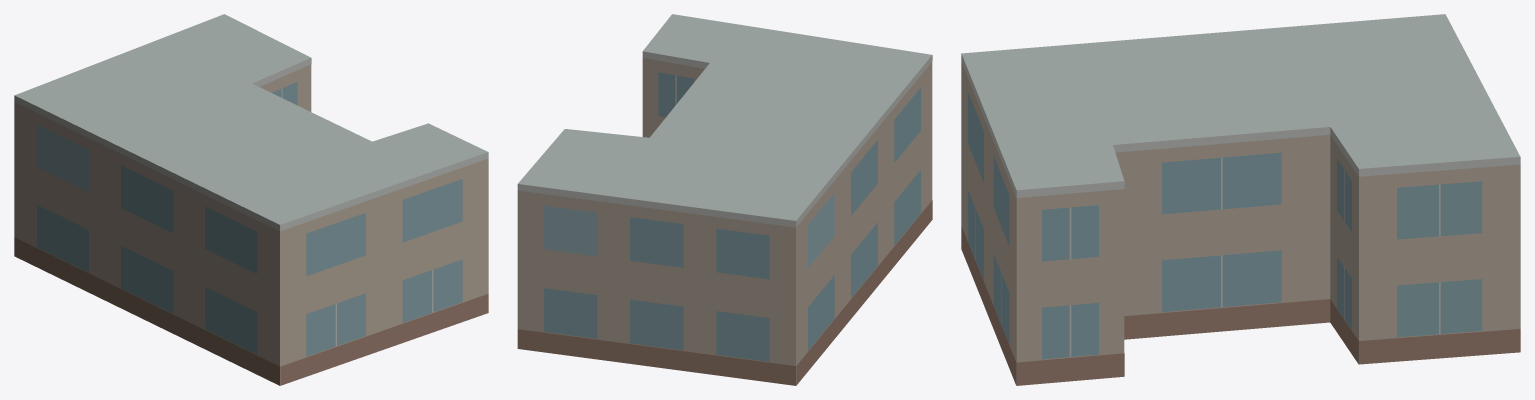
Rendered from survey-upis-32764304.glb.
3 renders of one model, left to right at view 1: azimuth 30°, elevation 25°; view 2: azimuth 150°, elevation 25°; view 3: azimuth 270°, elevation 25°, orthographic. The views are drawn at different scales.
Parts seen in each view (by area): view 1: survey-upis-32764304.tmp; view 2: survey-upis-32764304.tmp; view 3: survey-upis-32764304.tmp.
Boxes of the visible parts, <box> form: survey-upis-32764304.tmp: <box>14,14,488,385</box>; survey-upis-32764304.tmp: <box>517,14,932,385</box>; survey-upis-32764304.tmp: <box>961,14,1520,385</box>.
Size of the model in its own units: 11.81 by 6.1 by 15.82.
